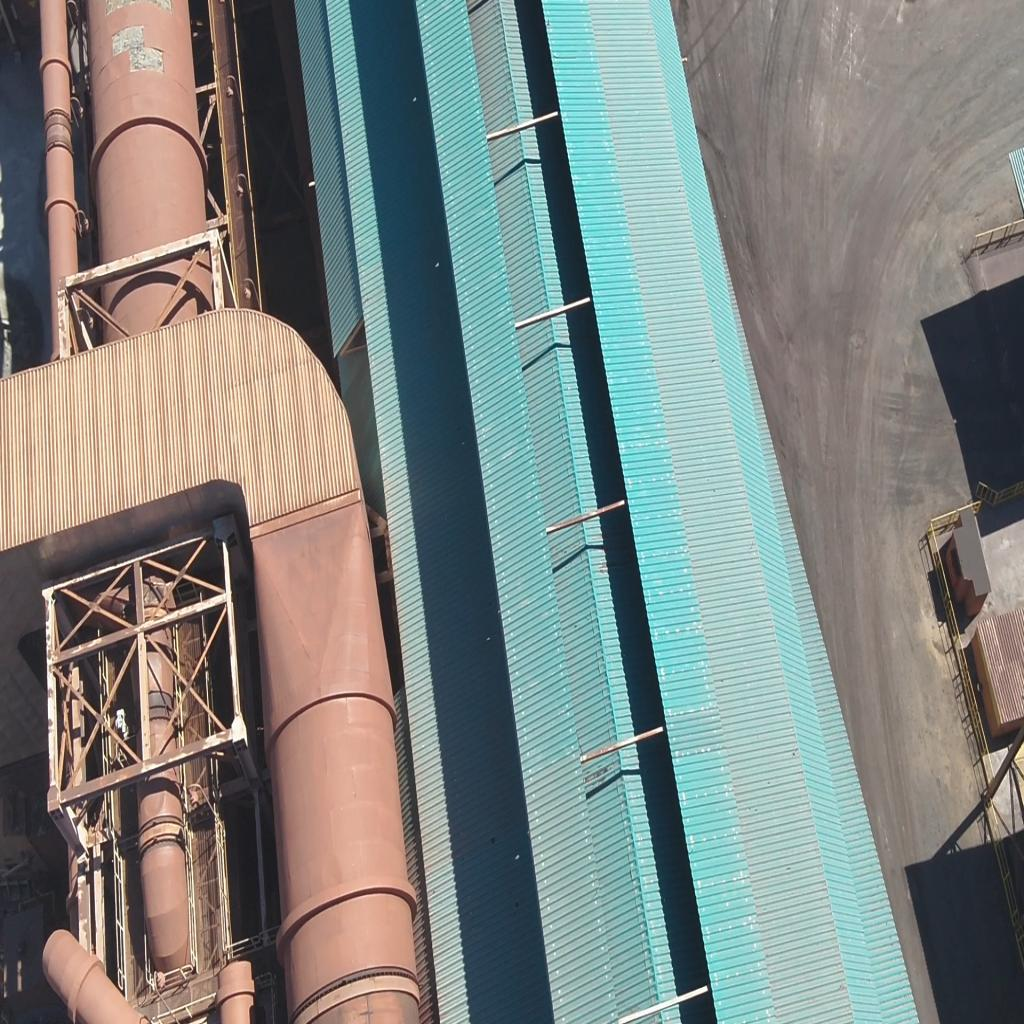Failures: (113, 24, 144, 54), (130, 48, 166, 73)
